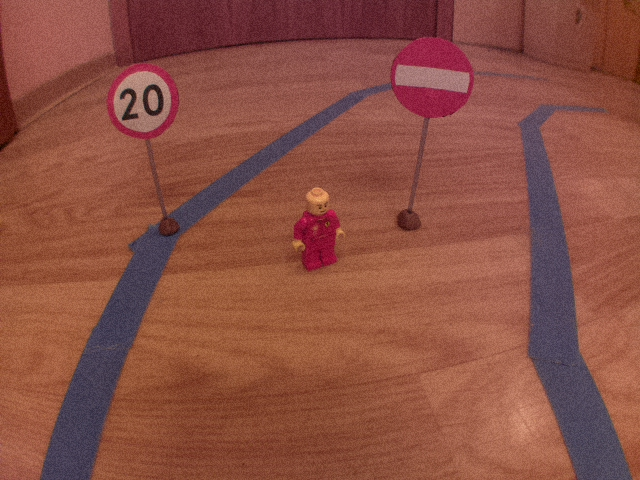LEGO_person: (288, 186, 348, 274)
ogr_20: (105, 60, 183, 142)
zakaz: (387, 35, 478, 121)
